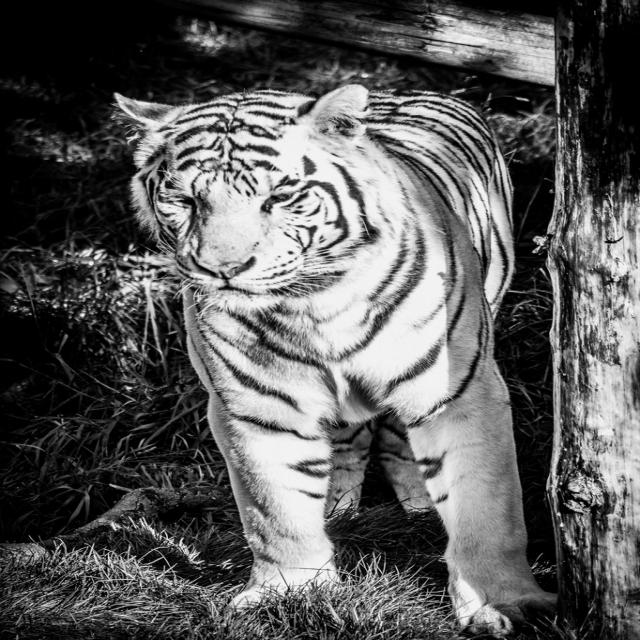Tiger: (114, 86, 564, 634)
